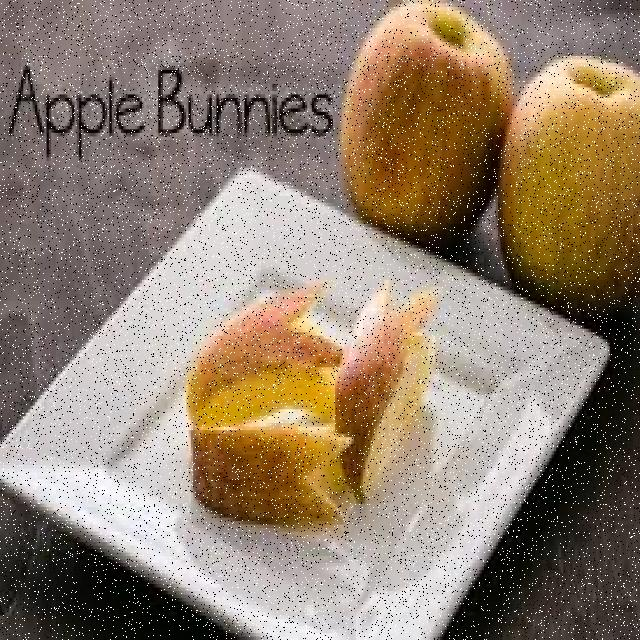Apple: (343, 1, 507, 238), (502, 57, 640, 316), (338, 272, 436, 496), (187, 295, 338, 422), (188, 422, 354, 526)
